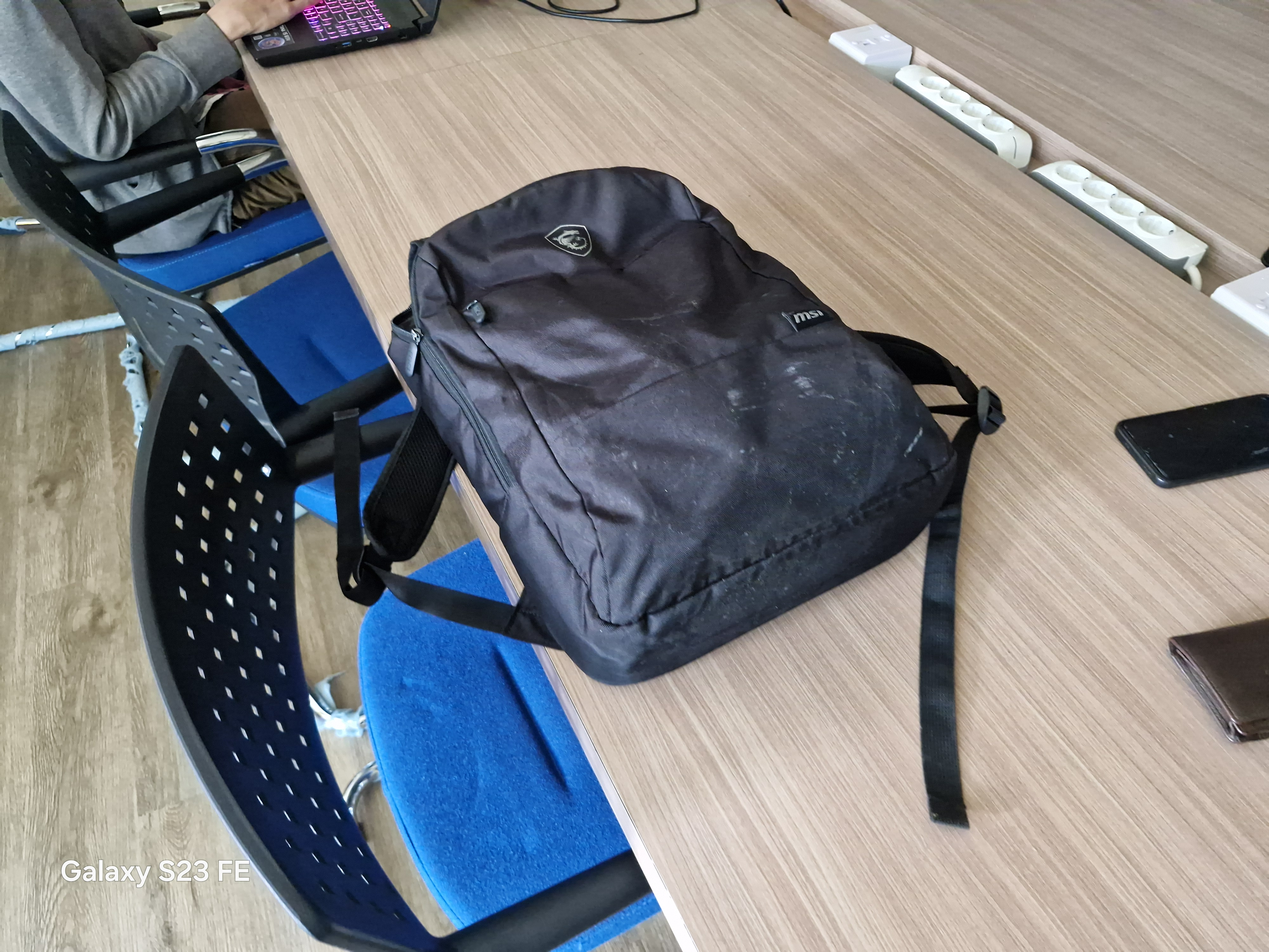backpack: (335, 167, 1004, 827)
cell phone: (1115, 393, 1268, 487)
chair: (132, 347, 658, 951), (0, 124, 381, 357)
floor-other-merged: (0, 355, 347, 951), (203, 359, 509, 937), (592, 838, 691, 951), (392, 502, 488, 597)
laptop: (243, 0, 440, 67)
person: (0, 0, 301, 254)
plug: (810, 0, 1206, 290)
table-merged: (266, 0, 1268, 951), (441, 466, 523, 606), (253, 0, 316, 35), (916, 385, 960, 406), (935, 415, 961, 439)
wallet: (1168, 619, 1268, 741)
